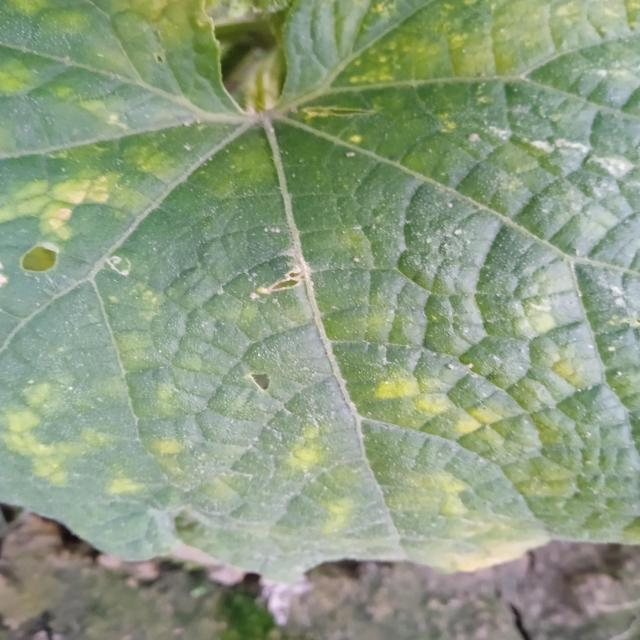cucumber_downy: (0, 1, 640, 554)
